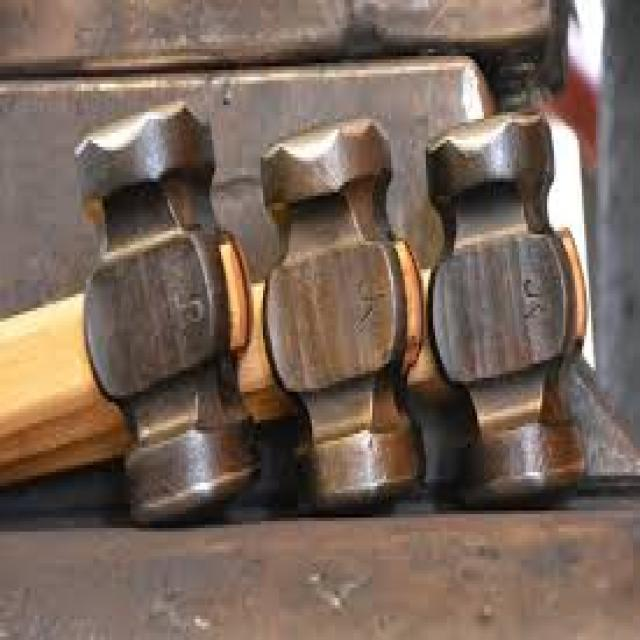hammer: (0, 102, 596, 510), (0, 105, 428, 535), (0, 91, 268, 528)
